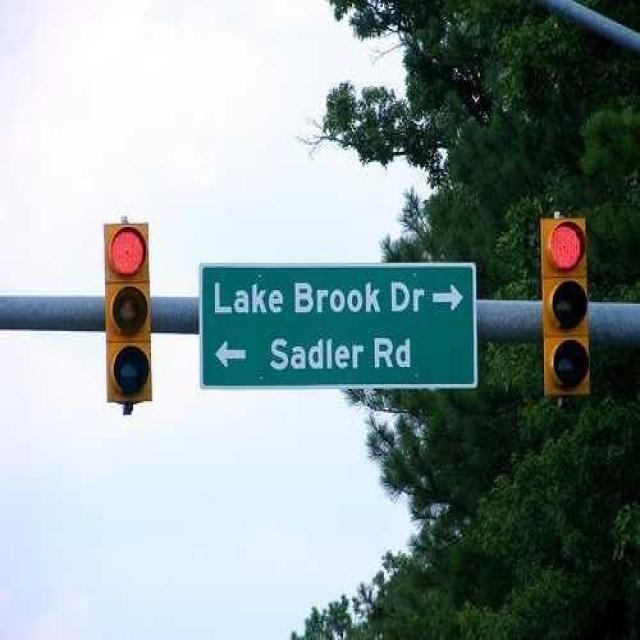Traffic Light -Red-: (98, 216, 158, 410), (540, 213, 594, 398)
